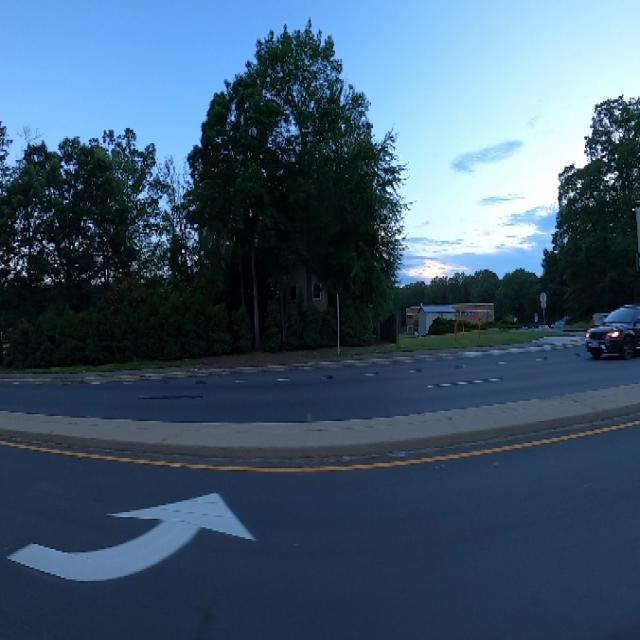car: (584, 295, 638, 362)
